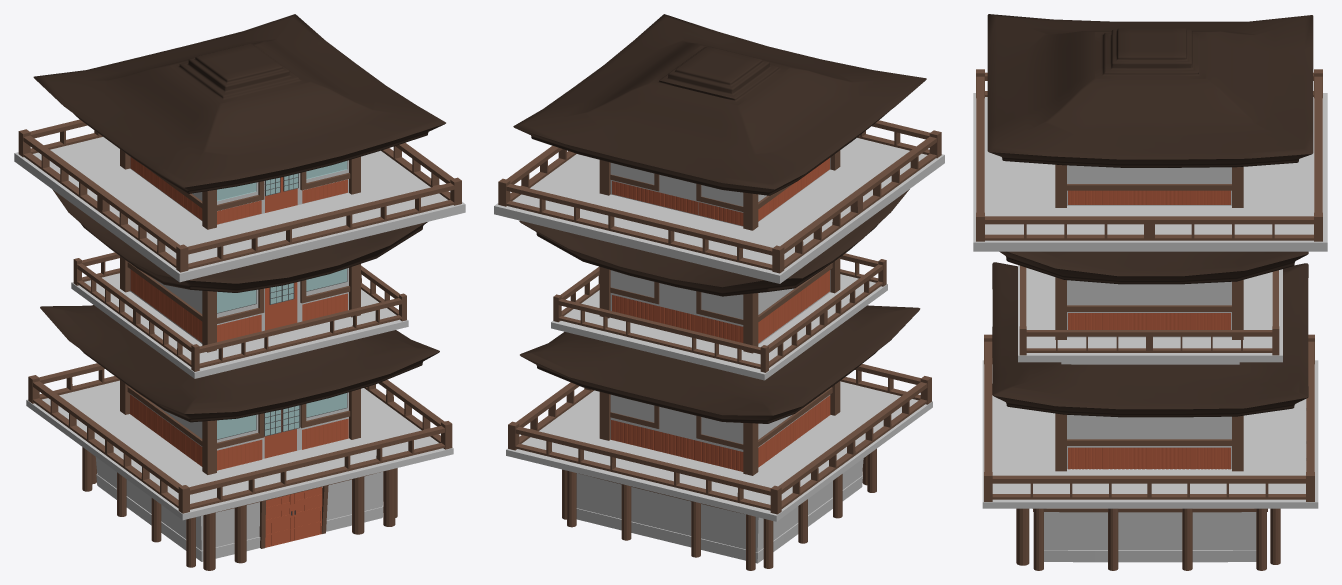
Rendered from Templo.fbx.
3 views of the same model, side by side, from view 1: azimuth 30°, elevation 25°; view 2: azimuth 150°, elevation 25°; view 3: azimuth 270°, elevation 25° (orthographic). The views are drawn at different scales.
Visible parts, largest first — view 1: Telhado, Base, ParedeVaranda, JanelaCima, Pilares, PilarMadeira, MadeiraTemplo, Porta, JanelaPorta; view 2: Telhado, Base, ParedeVaranda, JanelaCima, PilarMadeira, Pilares, MadeiraTemplo; view 3: Telhado, Base, ParedeVaranda, JanelaCima, Pilares, PilarMadeira, MadeiraTemplo.
Boxes of the visible parts, x1,y1,x2,y2 form: Telhado: (33,14,445,422); Base: (14,137,465,561); ParedeVaranda: (18,119,461,513); JanelaCima: (130,157,348,470); Pilares: (82,447,397,570); PilarMadeira: (120,149,360,474); MadeiraTemplo: (127,169,350,448); Porta: (265,487,322,547); JanelaPorta: (264,173,299,436); Telhado: (513,14,926,423); Base: (494,138,944,563); ParedeVaranda: (498,120,941,514); JanelaCima: (611,158,830,471); PilarMadeira: (599,150,840,475); Pilares: (562,448,876,570); MadeiraTemplo: (610,173,832,449); Telhado: (987,14,1313,417); Base: (973,93,1327,562); ParedeVaranda: (976,69,1322,501); JanelaCima: (1068,190,1230,469); Pilares: (1016,508,1280,570); PilarMadeira: (1055,164,1243,471); MadeiraTemplo: (1067,184,1231,445).
Size of the model in its own units: 1226 by 1808 by 1226.
